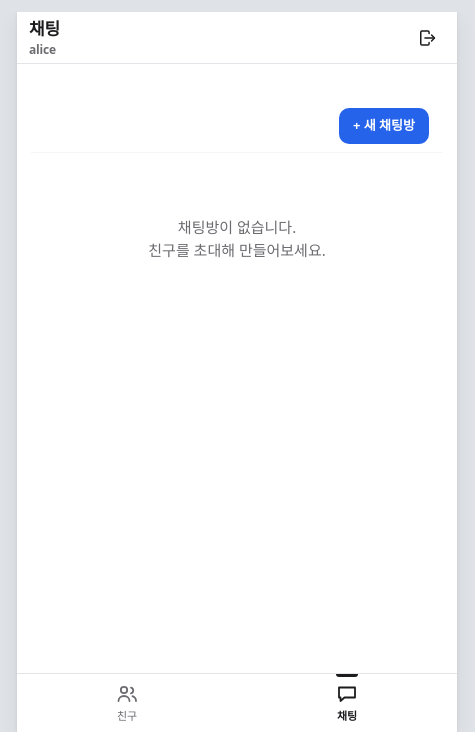
Scenario: 로그인 상태의 뷰 전환 › 버튼을 누르면 그 화면으로 바뀌고 이전 화면은 사라진다
Expected: the element with test id "view-rooms" is shown, top-left (31, 100), bottom-right (443, 260)
Click the button with test id "nav-friends" at (127, 703), box top-left (17, 674), bottom-right (237, 731)
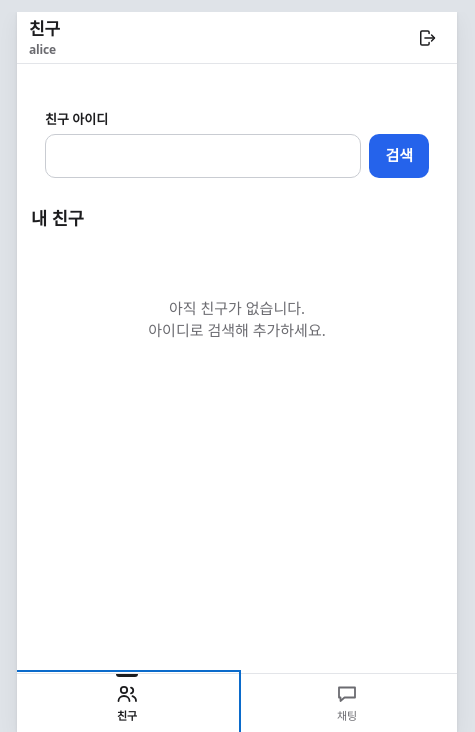
Expected: the element with test id "view-friends" is shown, top-left (31, 110), bottom-right (429, 340)
